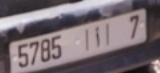5: (17, 44, 29, 67), (51, 34, 62, 59)
7: (29, 42, 40, 65), (129, 15, 139, 39)
8: (40, 39, 50, 62)
a: (94, 25, 101, 48)
